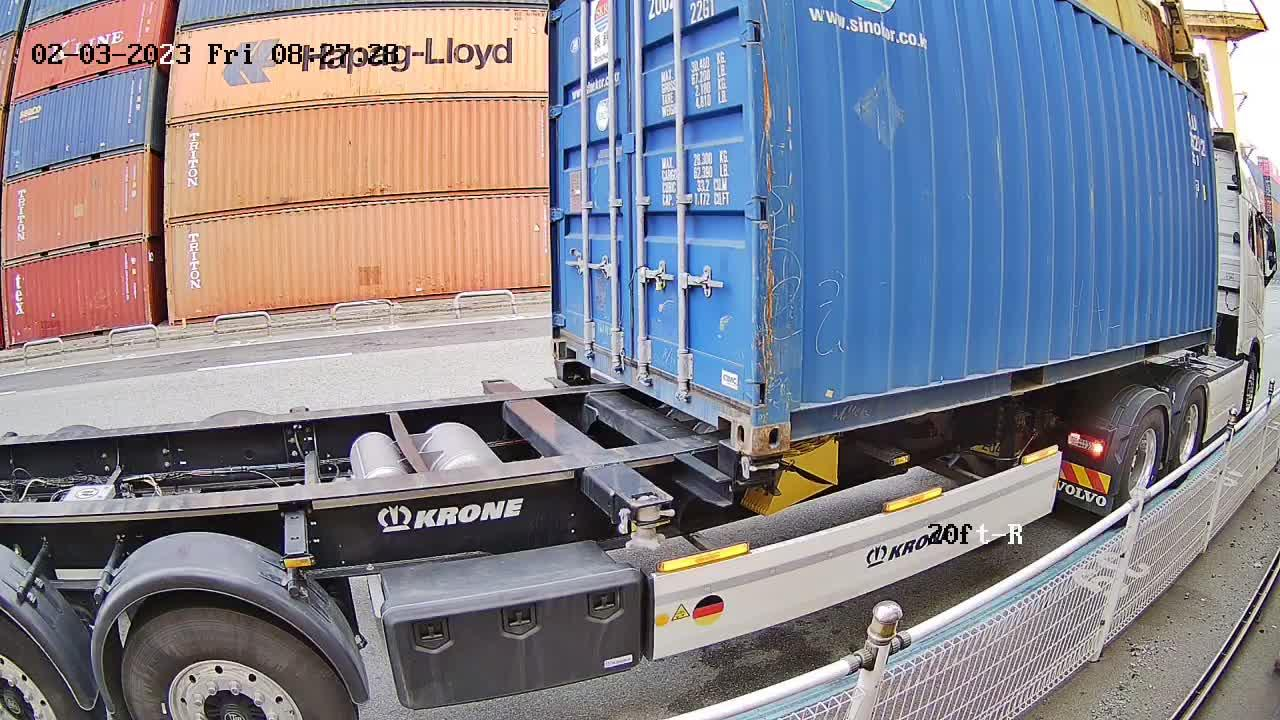Chassis: (553, 360, 755, 478)
Cone: (738, 455, 785, 494)
Hole_L: (753, 381, 818, 455), (549, 316, 583, 365)
Hole_R: (708, 373, 756, 456)
Tire: (1114, 404, 1169, 520), (1170, 387, 1209, 484)
